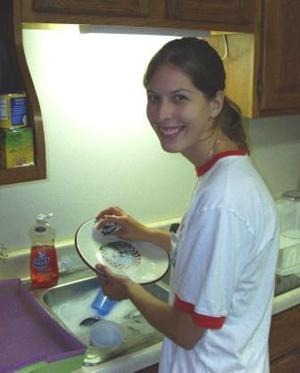person: (96, 36, 280, 373)
